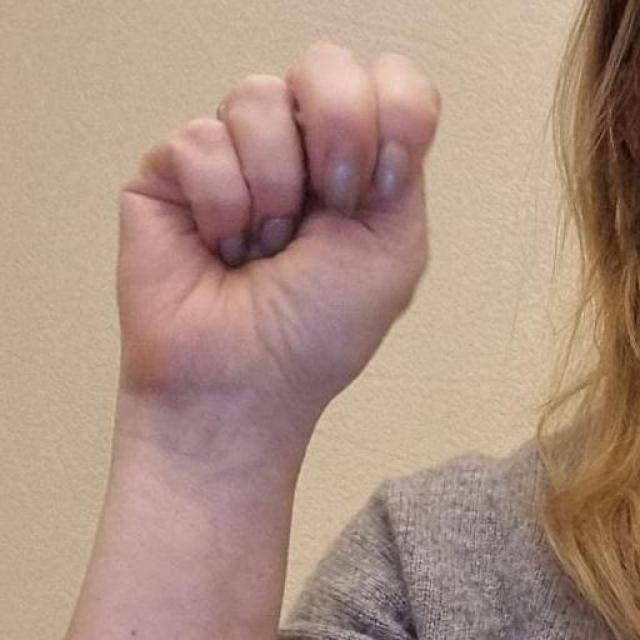hand: (111, 38, 441, 468)
